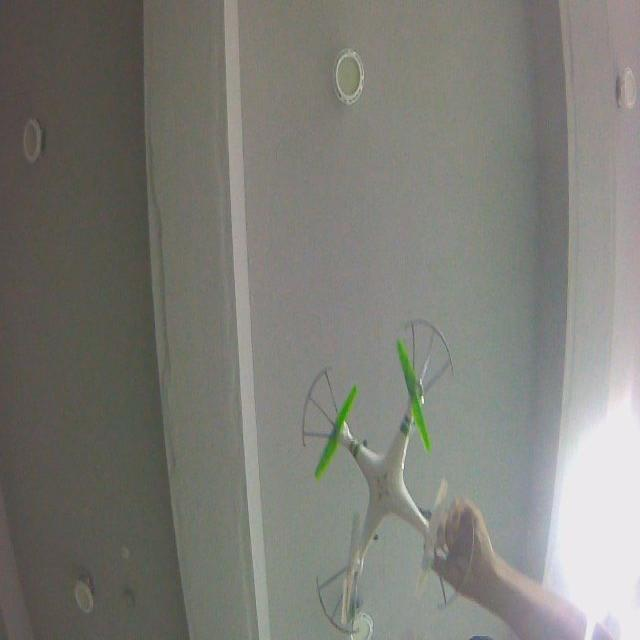drone: (299, 316, 476, 636)
